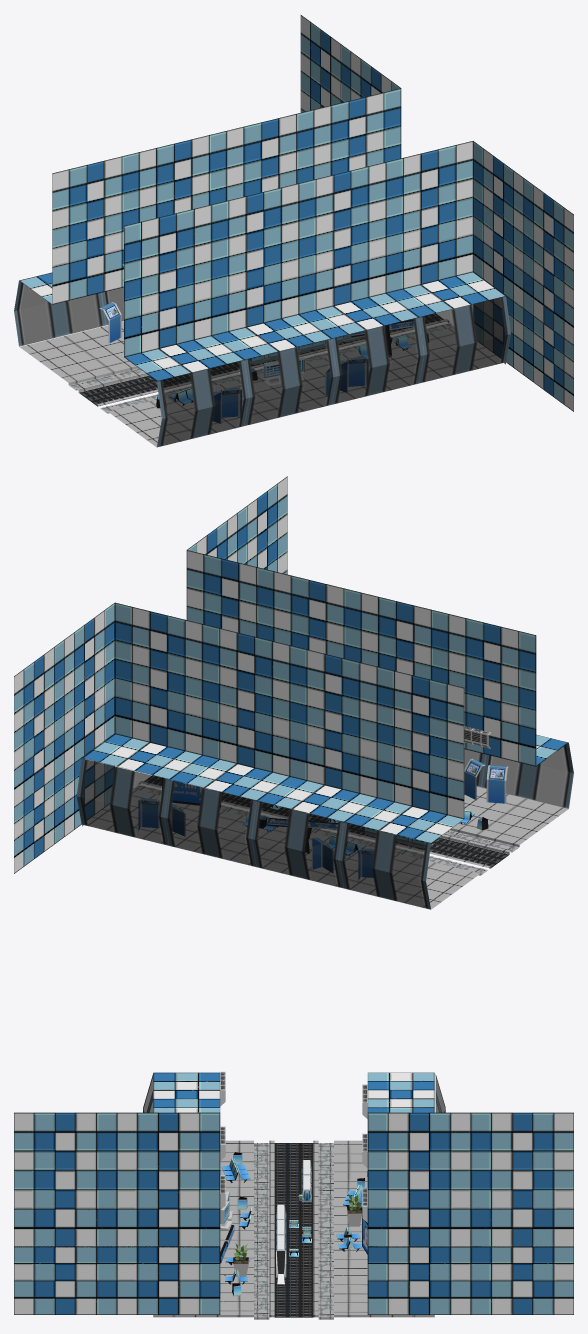
The model's file is subwaysurfers14test.glb.
The picture shows the model from 3 angles, top to bottom: view 1: azimuth 30°, elevation 25°; view 2: azimuth 150°, elevation 25°; view 3: azimuth 270°, elevation 25°; orthographic projection. The views are drawn at different scales.
Parts seen in each view (by area): view 1: tiledwall, tiledwall.003, tiledwall.005, tiledwall.006, tiledwall.007, tiledwall.002, tiledwall.001, tiledwall.013, tiledwall.012, tiledwall.009, window1, window1.001 (+15 smaller); view 2: tiledwall.012, tiledwall.009, tiledwall.007, tiledwall.013, tiledwall.006, tiledwall.008, tiledwall.014, tiledwall, tiledwall.003, tiledwall.005, window1.007, window1.005 (+16 smaller); view 3: tiledwall.014, tiledwall.008, tiledwall.001, tiledwall.002, tiledwall.010, tiledwall.004, tiledwall.015, tiledwall.011, tiledwall.006, tiledwall.007, tile.015, tile.003 (+14 smaller).
Boxes of the visible parts, x1,y1,x2,y2 form: tiledwall: [386, 141, 505, 317]; tiledwall.003: [298, 162, 418, 338]; tiledwall.005: [211, 183, 330, 359]; tiledwall.006: [124, 205, 243, 380]; tiledwall.007: [20, 152, 139, 304]; tiledwall.002: [523, 178, 573, 345]; tiledwall.001: [473, 141, 523, 308]; tiledwall.013: [314, 88, 401, 179]; tiledwall.012: [226, 109, 313, 200]; tiledwall.009: [139, 131, 226, 221]; window1: [418, 296, 510, 383]; window1.001: [331, 317, 423, 404]; tiledwall.012: [170, 624, 289, 800]; tiledwall.009: [257, 645, 376, 821]; tiledwall.007: [344, 666, 464, 843]; tiledwall.013: [82, 602, 202, 779]; tiledwall.006: [448, 614, 568, 766]; tiledwall.008: [14, 640, 64, 807]; tiledwall.014: [64, 603, 114, 770]; tiledwall: [186, 550, 273, 641]; tiledwall.003: [274, 571, 361, 662]; tiledwall.005: [361, 592, 448, 683]; window1.007: [76, 758, 168, 845]; window1.005: [251, 801, 343, 888]; tiledwall.014: [367, 1112, 470, 1247]; tiledwall.008: [470, 1112, 573, 1247]; tiledwall.001: [117, 1112, 220, 1247]; tiledwall.002: [14, 1112, 117, 1247]; tiledwall.010: [14, 1246, 117, 1314]; tiledwall.004: [117, 1246, 220, 1314]; tiledwall.015: [367, 1246, 470, 1314]; tiledwall.011: [470, 1246, 573, 1314]; tiledwall.006: [153, 1072, 220, 1112]; tiledwall.007: [367, 1072, 434, 1112]; tile.015: [334, 1271, 434, 1317]; tile.003: [153, 1271, 253, 1317].
Bounding box in the file's own units: 161 × 88.5 × 217.
3 materials, 3 textured.
